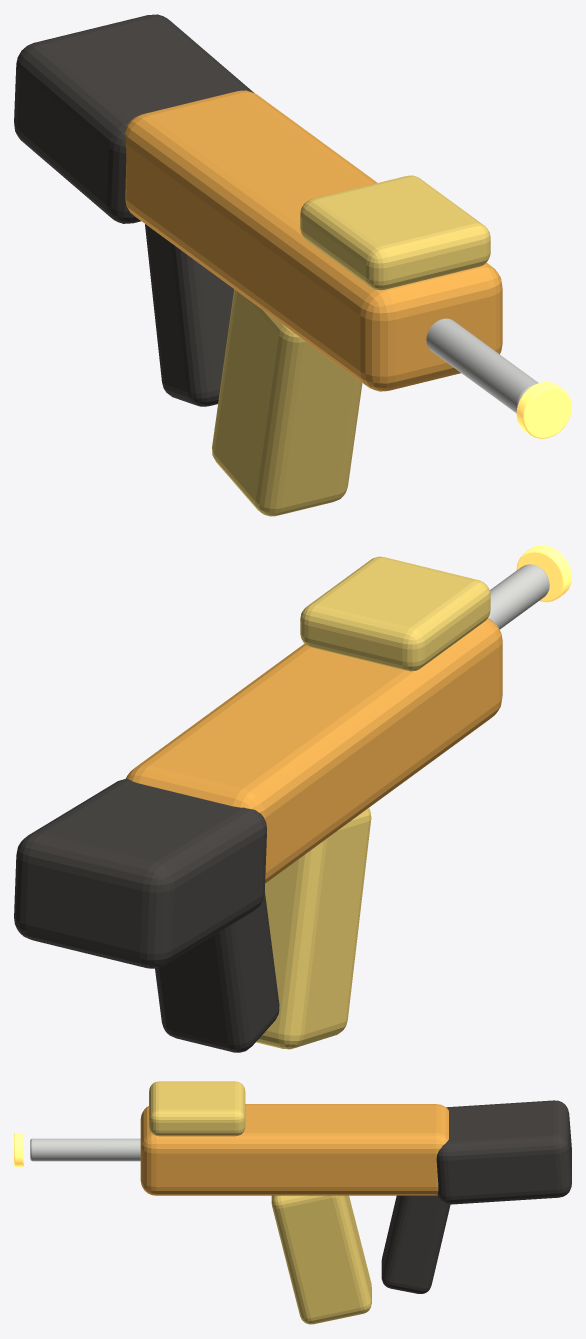
File: ak_rifle.glb
3 renders of one model, top to bottom at view 1: azimuth 30°, elevation 25°; view 2: azimuth 150°, elevation 25°; view 3: azimuth 270°, elevation 25°, orthographic. The views are drawn at different scales.
Parts seen in each view (by area): view 1: LongBody, Stock, CurvedMag, ForegripTrim, Grip, RifleBarrel, RifleMuzzleGlow; view 2: LongBody, Stock, CurvedMag, ForegripTrim, Grip, RifleBarrel, RifleMuzzleGlow; view 3: LongBody, Stock, CurvedMag, ForegripTrim, Grip, RifleBarrel, RifleMuzzleGlow.
Boxes of the visible parts, <box> form: LongBody: <box>125,90,502,391</box>; Stock: <box>14,14,253,223</box>; CurvedMag: <box>212,289,362,516</box>; ForegripTrim: <box>300,175,490,290</box>; Grip: <box>145,224,233,406</box>; RifleBarrel: <box>426,318,538,413</box>; RifleMuzzleGlow: <box>516,381,571,438</box>; LongBody: <box>126,618,502,883</box>; Stock: <box>14,778,266,968</box>; CurvedMag: <box>256,808,371,1049</box>; ForegripTrim: <box>300,556,490,671</box>; Grip: <box>155,891,279,1052</box>; RifleBarrel: <box>488,564,549,629</box>; RifleMuzzleGlow: <box>516,545,571,602</box>; LongBody: <box>140,1104,448,1195</box>; Stock: <box>436,1100,571,1204</box>; CurvedMag: <box>271,1195,371,1324</box>; ForegripTrim: <box>149,1081,245,1136</box>; Grip: <box>381,1195,450,1293</box>; RifleBarrel: <box>30,1138,140,1161</box>; RifleMuzzleGlow: <box>14,1133,23,1166</box>.
Size of the model in its own units: 0.38 by 0.8545 by 1.97.
